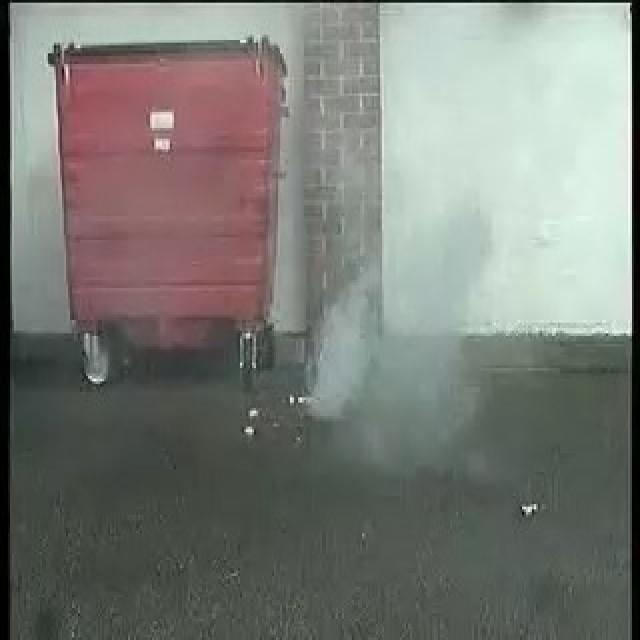Smoke: (297, 221, 482, 428)
